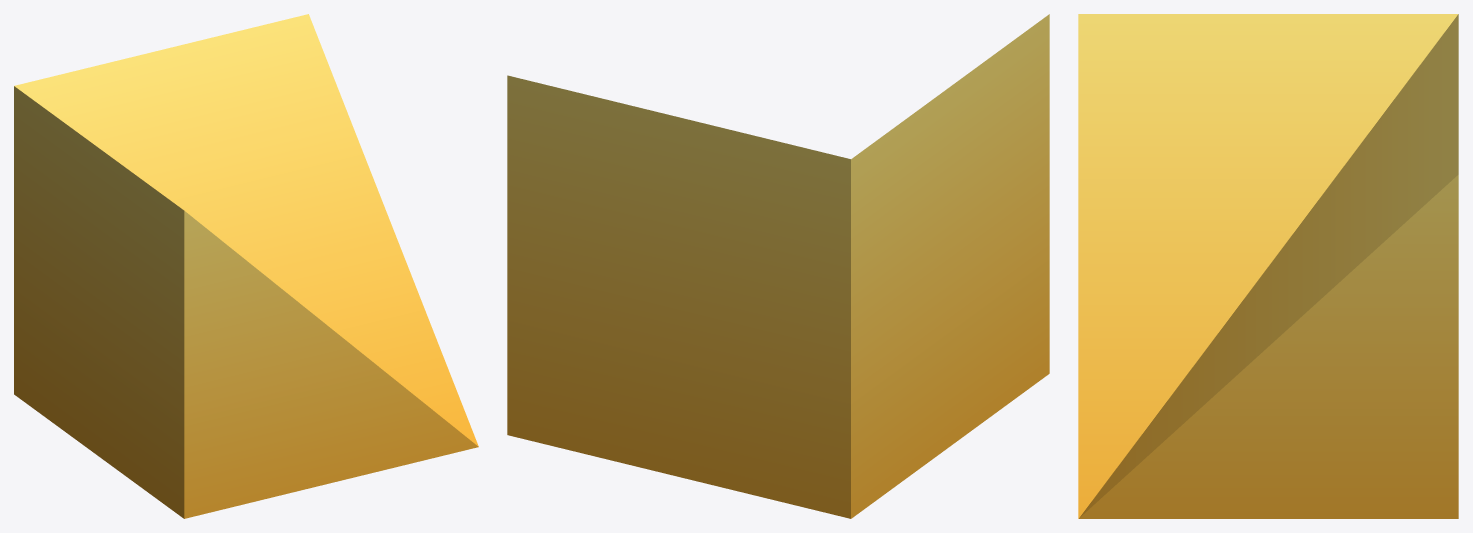
File: Primitive_Slope_InnerCorner.glb
3 renders of one model, left to right at view 1: azimuth 30°, elevation 25°; view 2: azimuth 150°, elevation 25°; view 3: azimuth 270°, elevation 25°, orthographic. The views are drawn at different scales.
Visible parts, largest first — view 1: Primitive_Slope_InnerCorner; view 2: Primitive_Slope_InnerCorner; view 3: Primitive_Slope_InnerCorner.
Boxes of the visible parts, <box> form: Primitive_Slope_InnerCorner: <box>14,14,478,518</box>; Primitive_Slope_InnerCorner: <box>507,14,1049,518</box>; Primitive_Slope_InnerCorner: <box>1078,14,1458,518</box>.
Size of the model in its own units: 4 by 4 by 4.
Materials: 1 (1 with a texture image).
